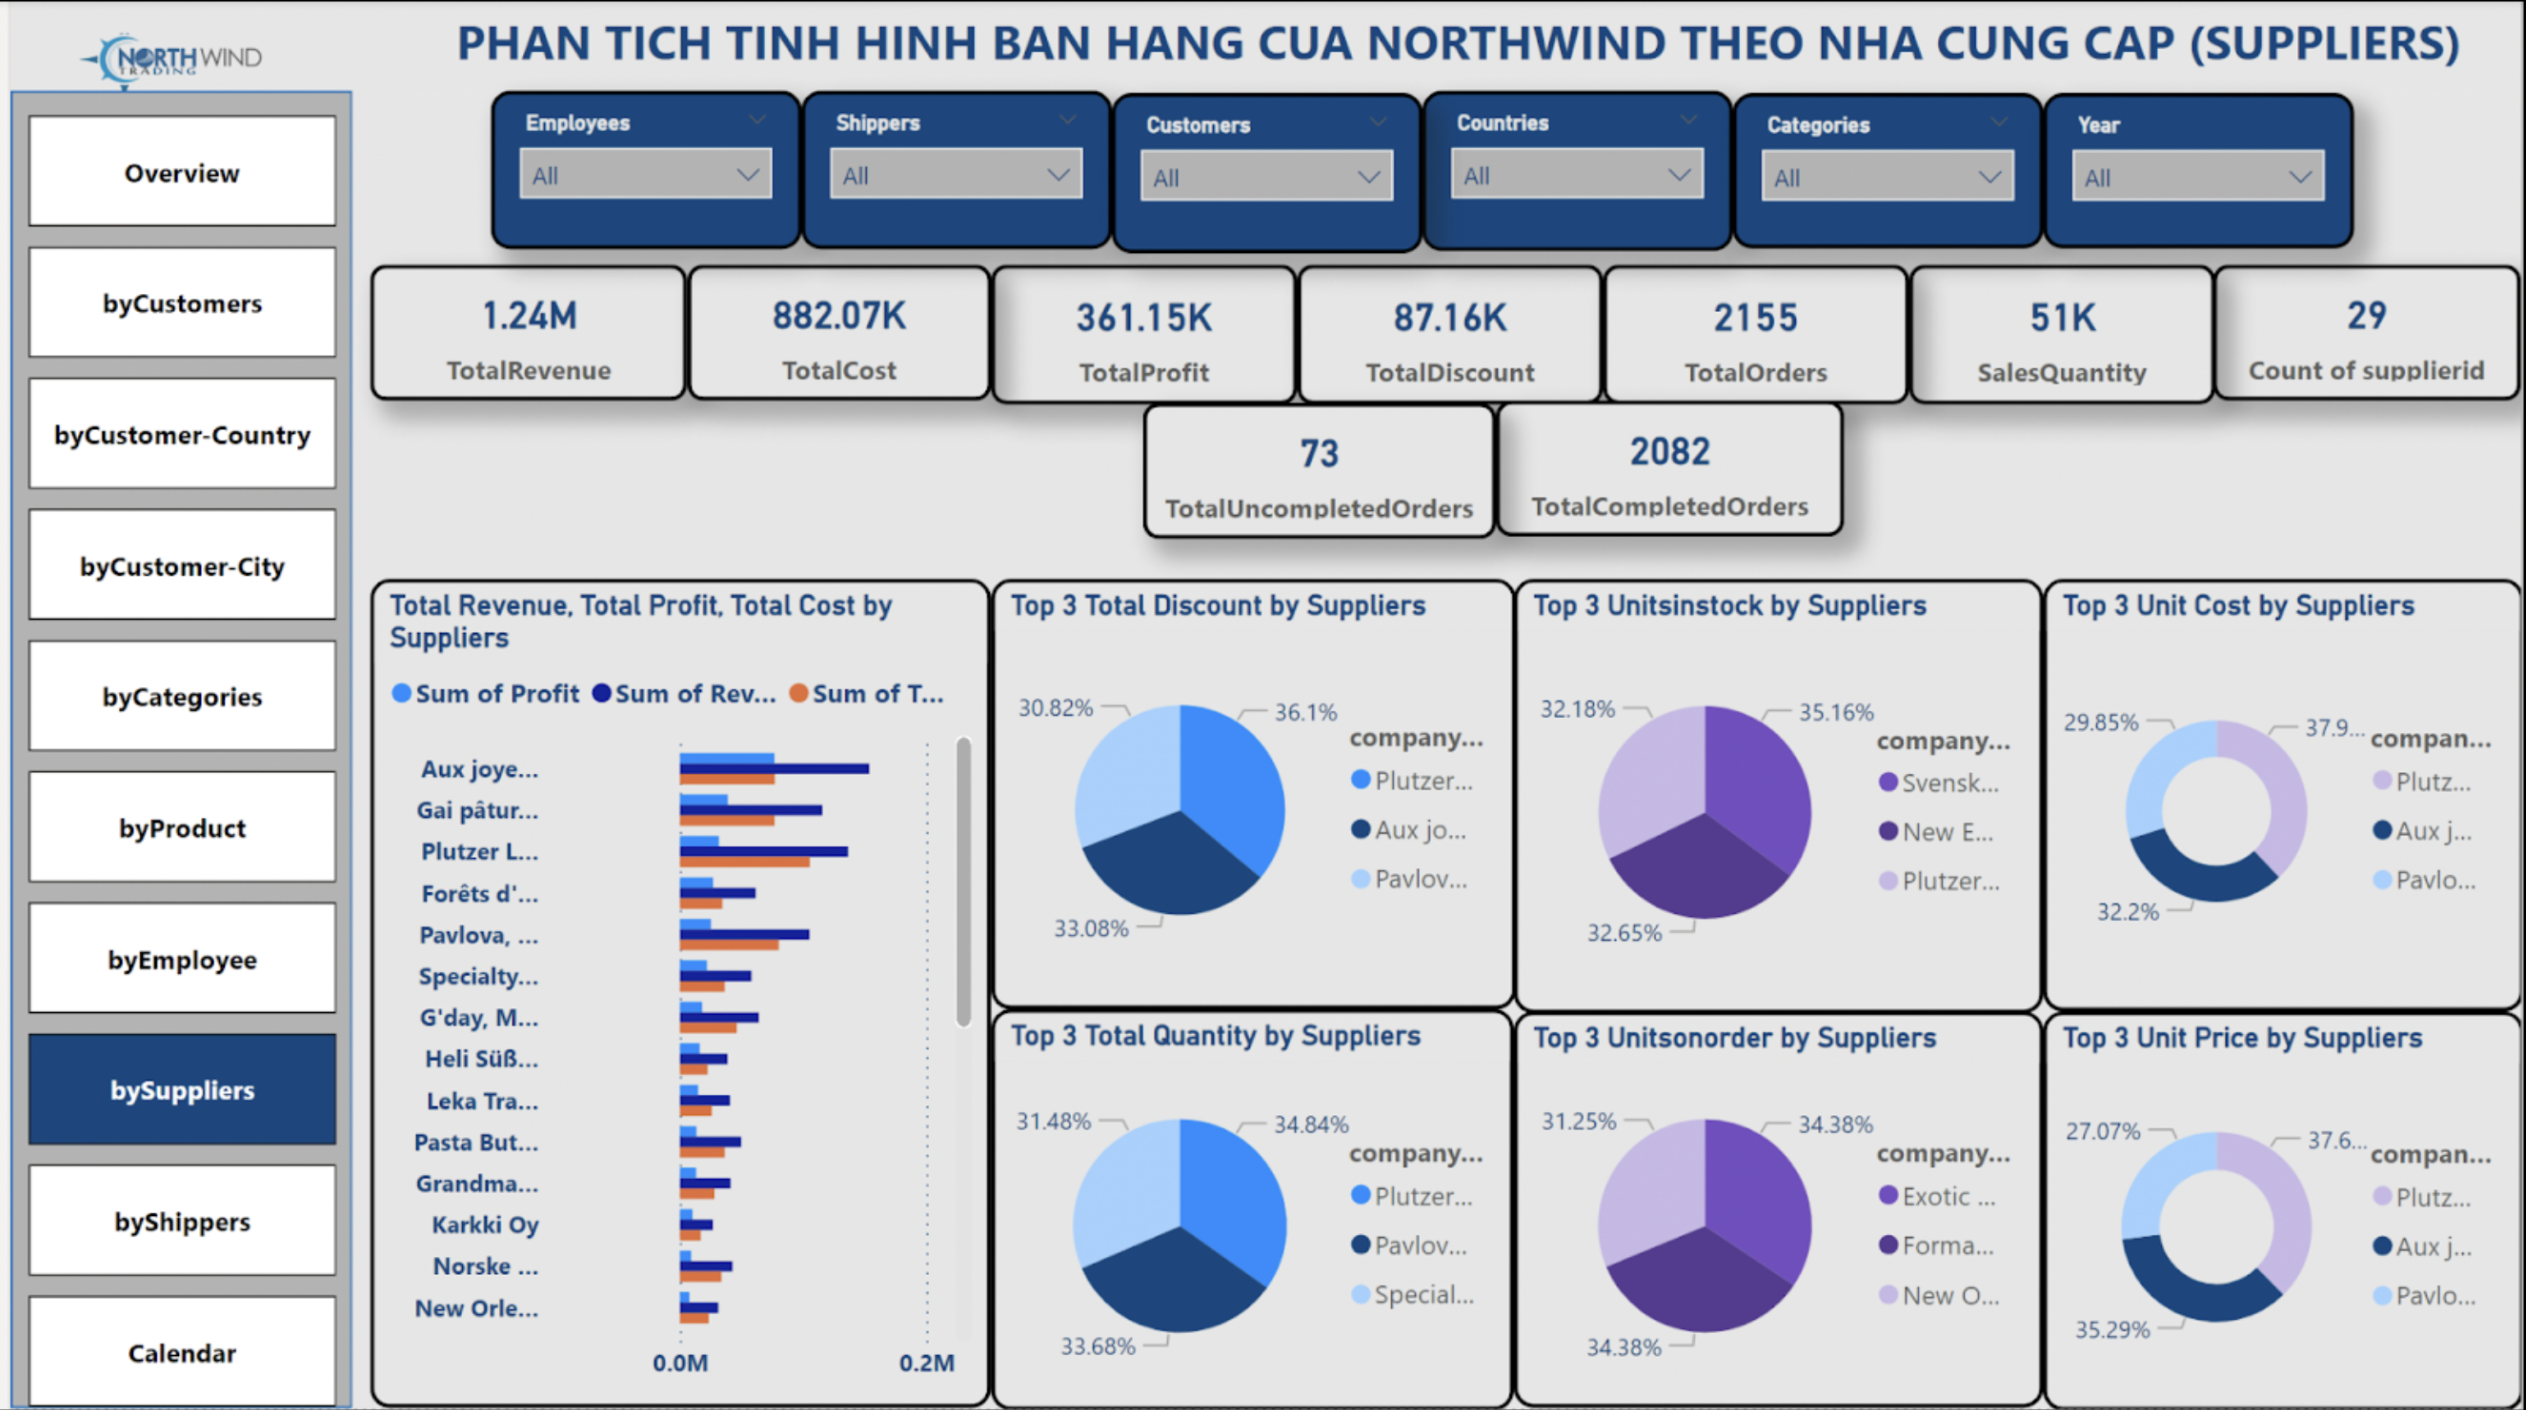

This screenshot's page, from the dashboard's own definition file:
{"tool":"powerbi","page":{"name":"bySuppliers","canvas":[1280,720],"ordinal":7},"visuals":[{"type":"card","fields":{"Values":["FactOrders.TotalRevenue"]},"box":[183.3,135.5,161.7,69.5],"z":0},{"type":"card","fields":{"Values":["FactOrders.TotalProfit"]},"box":[499.9,135.5,156,71.7],"z":1000},{"type":"card","fields":{"Values":["Sum(FactOrders.TotalCost)"]},"box":[345.1,135.5,154.9,69.5],"z":2000},{"type":"card","fields":{"Values":["FactOrders.TotalDiscount"]},"box":[655.9,135.5,156,71.7],"z":3000},{"type":"card","fields":{"Values":["CountNonNull(suppliers.supplierid)"]},"box":[1122.8,135.5,157.2,69.5],"z":4000},{"type":"card","fields":{"Values":["Sum(FactOrders.Quantity)"]},"box":[968,135.5,156,71.7],"z":5000},{"type":"clusteredBarChart","title":"Total Revenue, Total Profit, Total Cost by Suppliers","fields":{"Y":["Sum(FactOrders.Profit)","Sum(FactOrders.Revenue)","Sum(FactOrders.TotalCost)"],"Category":["suppliers.companyname"]},"box":[183.3,296.1,316.6,423.6],"z":6000},{"type":"textbox","box":[206.1,0,1064.8,47.8],"z":7000},{"type":"card","fields":{"Values":["CountNonNull(FactOrders.OrderID)"]},"box":[812,135.5,156,71.7],"z":8000},{"type":"image","box":[10,10,157.2,47.8],"z":9000},{"type":"shape","box":[0,46.7,174.2,673],"z":10000},{"type":"pageNavigator","box":[9.1,59.2,157.2,660.5],"z":11000},{"type":"slicer","title":"Total Profit by Employees","fields":{"Values":["employees.fullname"]},"box":[244.3,47.3,158.3,80.9],"z":12000},{"type":"slicer","title":"Total Profit by Employees","fields":{"Values":["suppliers.companyname"]},"box":[402.6,47.3,158.3,80.9],"z":13000},{"type":"slicer","title":"Total Profit by Employees","fields":{"Values":["customers.contactname"]},"box":[719.1,47.3,158.3,82],"z":14000},{"type":"slicer","title":"Total Profit by Employees","fields":{"Values":["categories.categoryname"]},"box":[877.4,48.4,158.3,79.7],"z":15000},{"type":"slicer","title":"Total Profit by Employees","fields":{"Values":["shippers.companyname"]},"box":[1035.7,48.4,158.3,79.7],"z":16000},{"type":"pieChart","title":"Top 3 Total Discount  by Suppliers","fields":{"Y":["Sum(FactOrders.DiscountAmount)"],"Category":["suppliers.companyname"]},"box":[827.9,296.1,228.9,131],"z":17000},{"type":"clusteredBarChart","title":"Total Freight by Suppliers","fields":{"Category":["suppliers.companyname"],"Y":["Sum(FactOrders.Freight)"]},"box":[499.9,296.1,329.1,423.6],"z":18000},{"type":"slicer","title":"Total Profit by Employees","fields":{"Values":["customers.contactname"]},"box":[561.4,47.8,158.3,82],"z":19000},{"type":"pieChart","title":"Top 3 Total Quantity  by Suppliers","fields":{"Y":["Sum(FactOrders.Quantity)"],"Category":["suppliers.companyname"]},"box":[1056.8,293.8,223.2,133.2],"z":20000},{"type":"card","fields":{"Values":["FactOrders.TotalCompletedOrders"]},"box":[757.3,205,177.7,69.5],"z":21000},{"type":"card","fields":{"Values":["FactOrders.TotalUncompletedOrders"]},"box":[577.9,206.1,179.9,69.5],"z":22000},{"type":"pieChart","title":"Top 3 Unitsinstock  by Suppliers","fields":{"Category":["suppliers.companyname"],"Y":["Sum(products.unitsinstock)"]},"box":[829,427,227.8,145.8],"z":23000},{"type":"pieChart","title":"Top 3 Unitsonorder  by Suppliers","fields":{"Category":["suppliers.companyname"],"Y":["Sum(products.unitsonorder)"]},"box":[1052.2,427,227.8,145.8],"z":24000},{"type":"donutChart","title":"Top 3 Unit Cost  by Suppliers","fields":{"Category":["suppliers.companyname"],"Y":["Sum(products.unitcost)"]},"box":[827.9,572.8,227.8,146.9],"z":25000},{"type":"donutChart","title":"Top 3 Unit Price  by Suppliers","fields":{"Category":["suppliers.companyname"],"Y":["Sum(FactOrders.UnitPrice)"]},"box":[1052.2,572.8,227.8,146.9],"z":26000}]}

Visuals, with their boxes in screenshot pixels (x1, y1, x2, y2), scaled from the page's 1280x720 canvas onto the 2526x1410 screenshot:
card - FactOrders.TotalRevenue: x1=362, y1=265, x2=681, y2=401
card - FactOrders.TotalProfit: x1=987, y1=265, x2=1294, y2=406
card - Sum(FactOrders.TotalCost): x1=681, y1=265, x2=987, y2=401
card - FactOrders.TotalDiscount: x1=1294, y1=265, x2=1602, y2=406
card - CountNonNull(suppliers.supplierid): x1=2216, y1=265, x2=2525, y2=401
card - Sum(FactOrders.Quantity): x1=1910, y1=265, x2=2218, y2=406
"Total Revenue, Total Profit, Total Cost by Suppliers" clusteredBarChart: x1=362, y1=580, x2=987, y2=1409
textbox: x1=407, y1=0, x2=2508, y2=94
card - CountNonNull(FactOrders.OrderID): x1=1602, y1=265, x2=1910, y2=406
image: x1=20, y1=20, x2=330, y2=113
shape: x1=0, y1=91, x2=344, y2=1409
pageNavigator: x1=18, y1=116, x2=328, y2=1409
"Total Profit by Employees" slicer: x1=482, y1=93, x2=795, y2=251
"Total Profit by Employees" slicer: x1=795, y1=93, x2=1107, y2=251
"Total Profit by Employees" slicer: x1=1419, y1=93, x2=1731, y2=253
"Total Profit by Employees" slicer: x1=1731, y1=95, x2=2044, y2=251
"Total Profit by Employees" slicer: x1=2044, y1=95, x2=2356, y2=251
"Top 3 Total Discount  by Suppliers" pieChart: x1=1634, y1=580, x2=2086, y2=836
"Total Freight by Suppliers" clusteredBarChart: x1=987, y1=580, x2=1636, y2=1409
"Total Profit by Employees" slicer: x1=1108, y1=94, x2=1420, y2=254
"Top 3 Total Quantity  by Suppliers" pieChart: x1=2086, y1=575, x2=2525, y2=836
card - FactOrders.TotalCompletedOrders: x1=1494, y1=401, x2=1845, y2=538
card - FactOrders.TotalUncompletedOrders: x1=1140, y1=404, x2=1495, y2=540
"Top 3 Unitsinstock  by Suppliers" pieChart: x1=1636, y1=836, x2=2086, y2=1122
"Top 3 Unitsonorder  by Suppliers" pieChart: x1=2076, y1=836, x2=2525, y2=1122
"Top 3 Unit Cost  by Suppliers" donutChart: x1=1634, y1=1122, x2=2083, y2=1409
"Top 3 Unit Price  by Suppliers" donutChart: x1=2076, y1=1122, x2=2525, y2=1409
